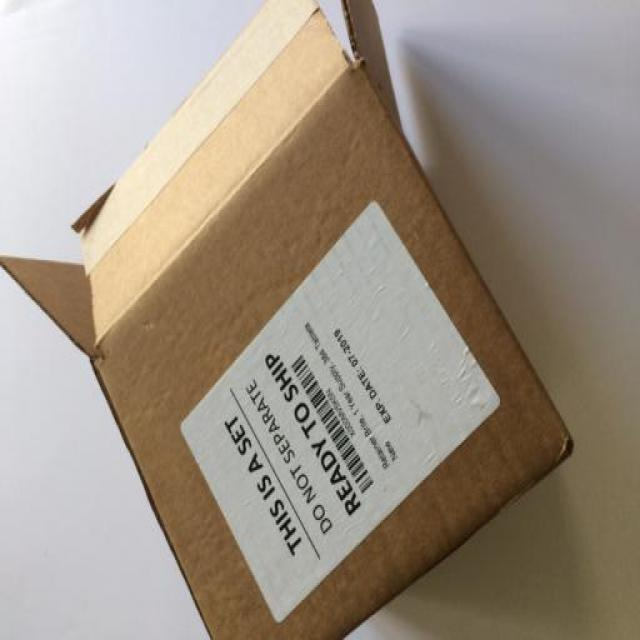cardboard: (5, 2, 595, 640)
